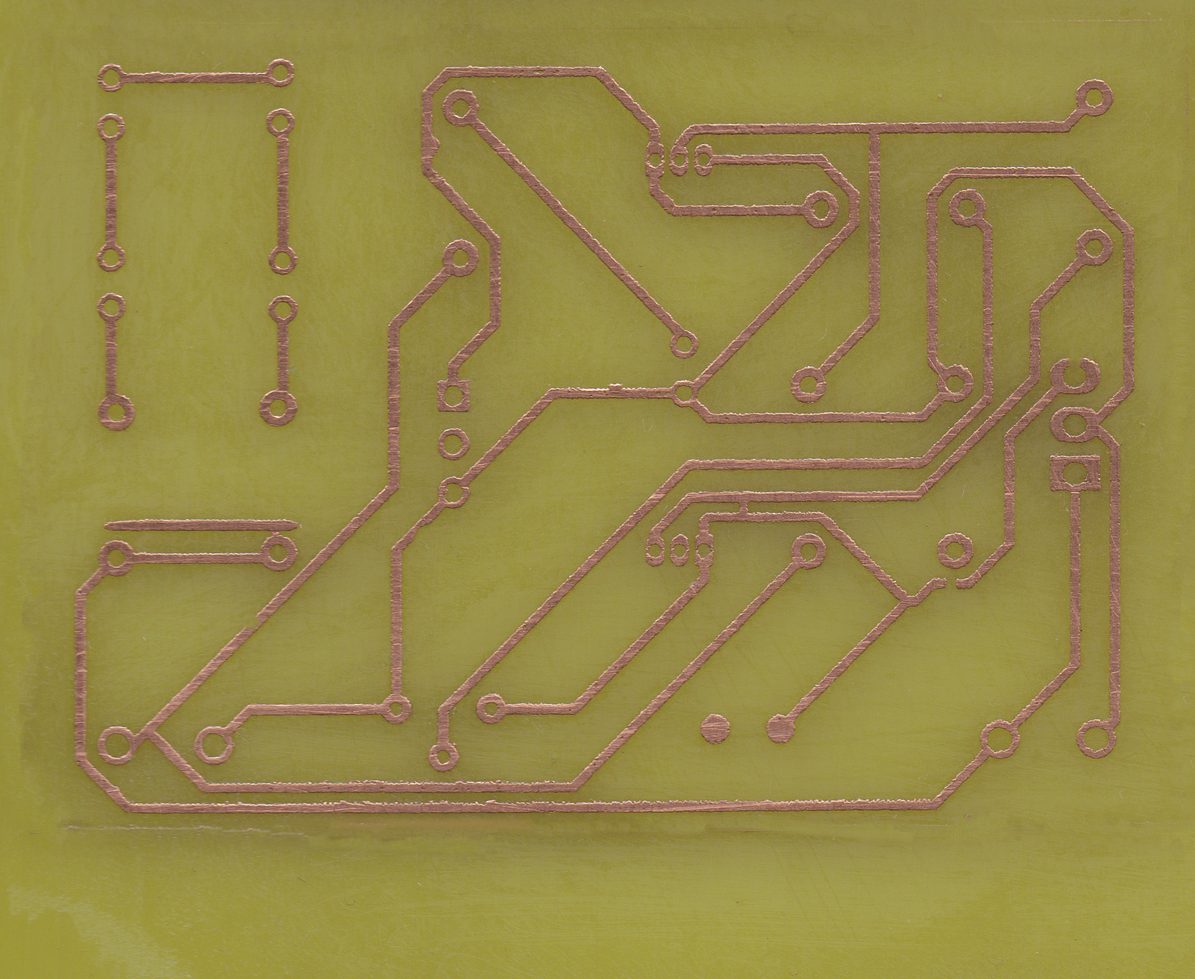missing_hole: (1051, 356, 1103, 396)
mouse_bite: (243, 614, 268, 631)
open_circuit: (937, 576, 964, 593)
short: (735, 493, 756, 519)
spur: (420, 134, 443, 163)
spurious_copper: (103, 515, 297, 537)
